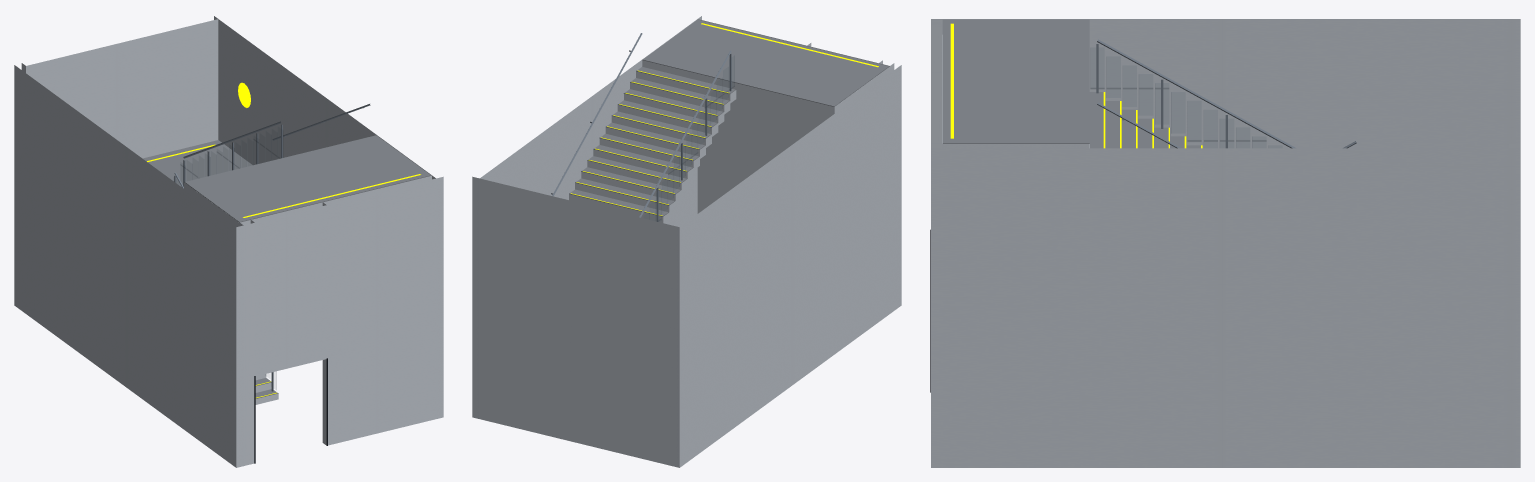
3 views of the same model, side by side, from view 1: azimuth 30°, elevation 25°; view 2: azimuth 150°, elevation 25°; view 3: azimuth 270°, elevation 25° (orthographic). The views are drawn at different scales.
Parts seen in each view (by area): view 1: Core_Walls, Front_Wall, Top_Landing_Slate, Mid_Landing_Slate, Top_Landing, Court_Line_Landing, Guard_Posts; view 2: Core_Walls, Top_Landing_Slate, Flight2_Modules, Treads_Slate, Front_Wall, Top_Landing, Nosing_Emergency, Guard_Cap_Rail; view 3: Core_Walls, Top_Landing_Slate, Treads_Slate, Front_Wall, Top_Landing, Guard_Cap_Rail.
Boxes of the visible parts, left/top/right/bottom form: Core_Walls: left=14, top=16, right=443, bottom=467; Front_Wall: left=239, top=178, right=436, bottom=465; Top_Landing_Slate: left=184, top=135, right=431, bottom=222; Mid_Landing_Slate: left=143, top=140, right=252, bottom=186; Top_Landing: left=184, top=175, right=431, bottom=226; Court_Line_Landing: left=147, top=144, right=420, bottom=217; Guard_Posts: left=174, top=124, right=282, bottom=391; Core_Walls: left=472, top=16, right=901, bottom=467; Top_Landing_Slate: left=642, top=19, right=889, bottom=106; Flight2_Modules: left=569, top=71, right=736, bottom=223; Treads_Slate: left=569, top=67, right=736, bottom=216; Front_Wall: left=697, top=19, right=894, bottom=213; Top_Landing: left=642, top=60, right=889, bottom=116; Nosing_Emergency: left=570, top=70, right=729, bottom=215; Guard_Cap_Rail: left=639, top=50, right=731, bottom=217; Core_Walls: left=931, top=19, right=1520, bottom=467; Top_Landing_Slate: left=942, top=19, right=1089, bottom=143; Treads_Slate: left=1089, top=92, right=1202, bottom=148; Front_Wall: left=931, top=26, right=942, bottom=148; Top_Landing: left=942, top=35, right=1089, bottom=148; Guard_Cap_Rail: left=1097, top=39, right=1296, bottom=148.
Size of what is drawn, in the model's own units: 5.5 by 6.95 by 10.21.
Materials: 6 (4 with a texture image).
